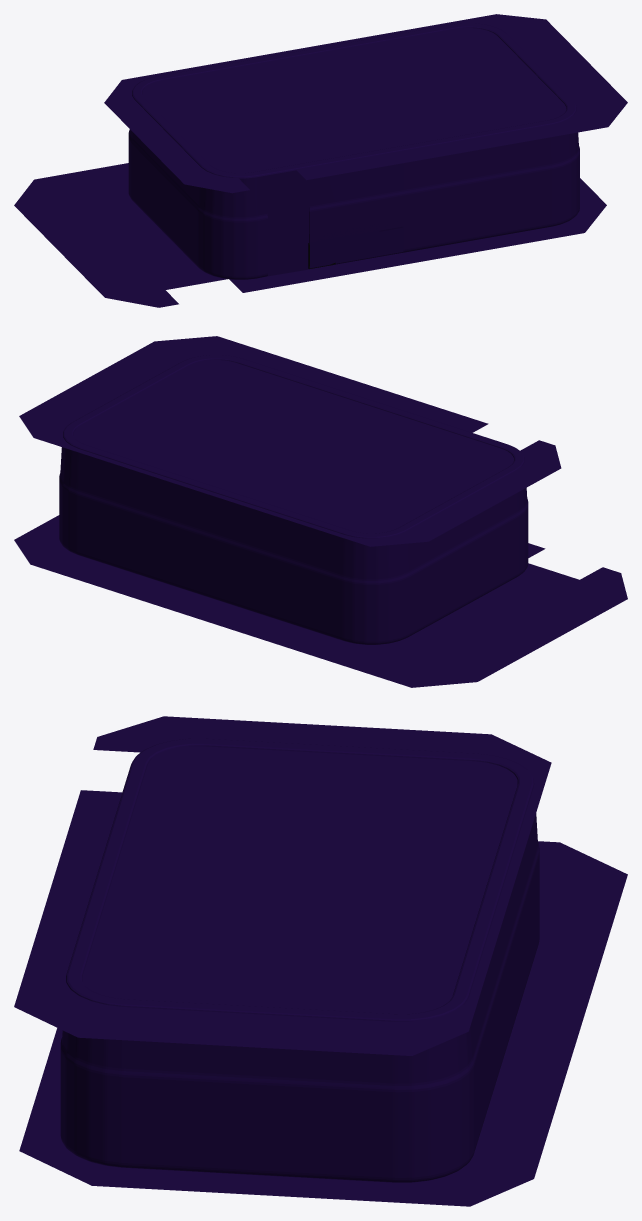
Rendered from ArenaBatalha.fbx.
3 renders of one model, top to bottom at view 1: azimuth 30°, elevation 25°; view 2: azimuth 150°, elevation 25°; view 3: azimuth 270°, elevation 25°, orthographic. The views are drawn at different scales.
Parts seen in each view (by area): view 1: arena_loop; view 2: arena_loop; view 3: arena_loop.
Boxes of the visible parts, x1,y1,x2,y2 form: arena_loop: (14,14,627,307); arena_loop: (14,336,627,687); arena_loop: (14,716,627,1206).
Size of the model in its own units: 13456 by 2581 by 8837.
